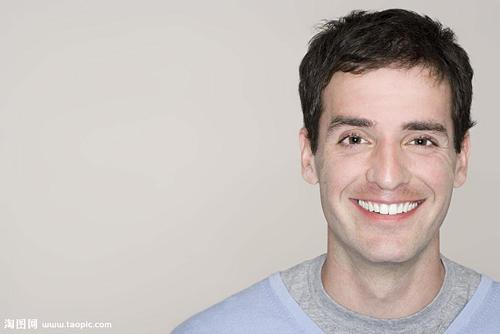no_mask: (294, 8, 475, 267)
